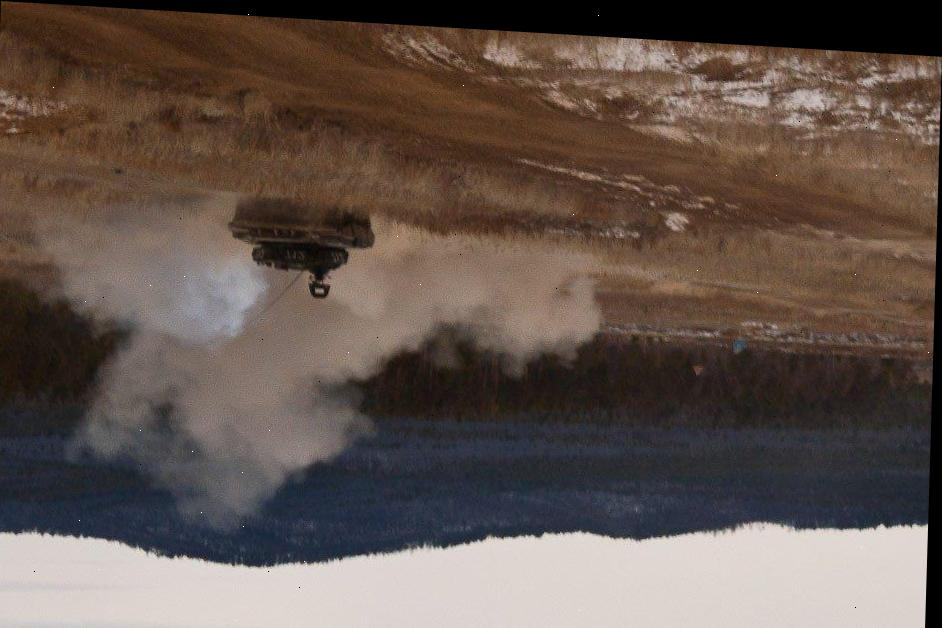tank: (224, 196, 375, 303)
